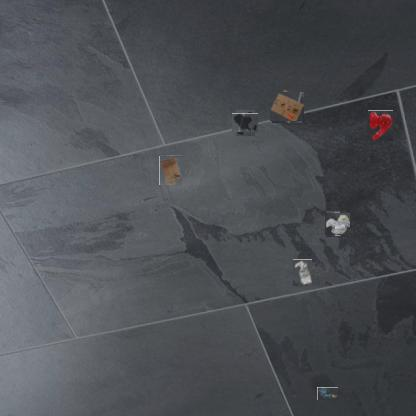dirty: (272, 90, 304, 122), (159, 155, 182, 185), (325, 212, 349, 236), (292, 259, 312, 286), (317, 387, 338, 400)
liquid: (367, 110, 393, 141), (234, 112, 257, 134)
